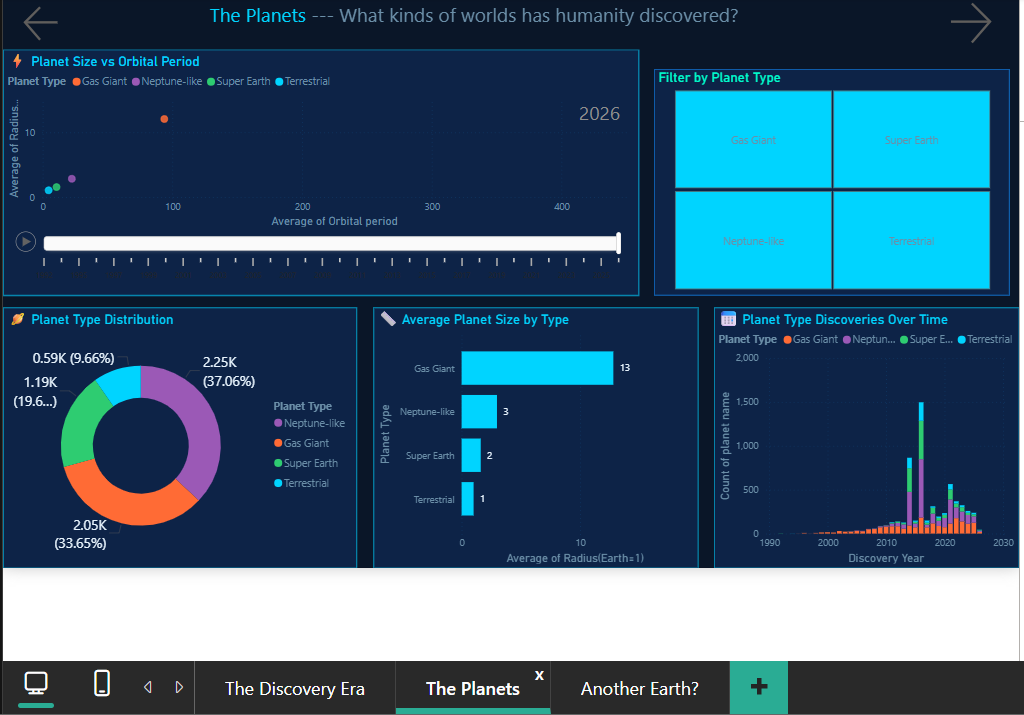

What the dashboard file says about the page in this screenshot:
{"tool":"powerbi","page":{"name":"The Planets","canvas":[1280,720],"ordinal":1},"visuals":[{"type":"textbox","box":[144.2,0,900,50],"z":0},{"type":"scatterChart","title":"⚡ Planet Size vs Orbital Period","fields":{"X":["Avg(nasa_sxoplanets.pl_orbper)"],"Y":["Avg(nasa_sxoplanets.pl_rade)"],"Series":["nasa_sxoplanets.Planet Type"],"Play":["nasa_sxoplanets.disc_year"]},"box":[0,66.1,801.3,309.9],"z":1000},{"type":"donutChart","title":"🪐 Planet Type Distribution","fields":{"Category":["nasa_sxoplanets.Planet Type"],"Y":["CountNonNull(nasa_sxoplanets.pl_name)"]},"box":[0,390.4,446.2,328.8],"z":2000},{"type":"clusteredBarChart","title":"📏 Average Planet Size by Type","fields":{"Category":["nasa_sxoplanets.Planet Type"],"Y":["Avg(nasa_sxoplanets.pl_rade)"]},"box":[467.3,390.4,409.6,328.8],"z":3000},{"type":"columnChart","title":"📅 Planet Type Discoveries Over Time","fields":{"Category":["nasa_sxoplanets.disc_year"],"Y":["CountNonNull(nasa_sxoplanets.pl_name)"],"Series":["nasa_sxoplanets.Planet Type"]},"box":[896.2,390.4,384.6,328.8],"z":4000},{"type":"slicer","title":"Filter by Planet Type","fields":{"Values":["nasa_sxoplanets.Planet Type"]},"box":[820.2,90.7,447.9,285.4],"z":5000},{"type":"actionButton","box":[20.8,0,54.8,66.1],"z":6000},{"type":"actionButton","box":[1186.8,0,64.3,66.1],"z":7000}]}

Visuals, with their boxes on the page's 1280x720 design canvas (x1, y1, x2, y2). These are canvas units, not pixel positions in the 1024x715 screenshot, which may show the page scaled, cropped or inside an application window:
textbox: rect(144, 0, 1044, 50)
"⚡ Planet Size vs Orbital Period" scatterChart: rect(0, 66, 801, 376)
"🪐 Planet Type Distribution" donutChart: rect(0, 390, 446, 719)
"📏 Average Planet Size by Type" clusteredBarChart: rect(467, 390, 877, 719)
"📅 Planet Type Discoveries Over Time" columnChart: rect(896, 390, 1281, 719)
"Filter by Planet Type" slicer: rect(820, 91, 1268, 376)
actionButton: rect(21, 0, 76, 66)
actionButton: rect(1187, 0, 1251, 66)
